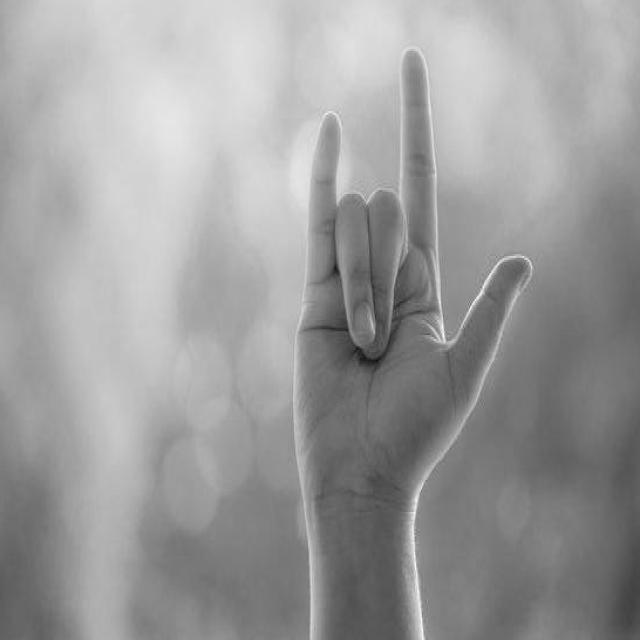i love you: (287, 36, 536, 590)
